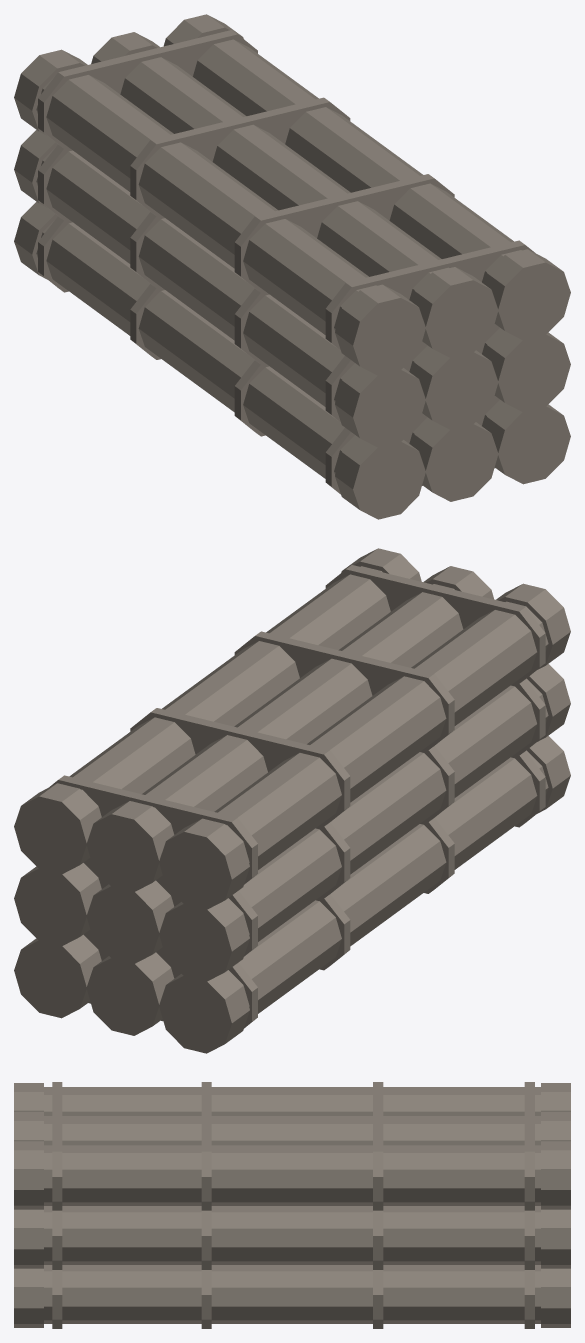
The model's file is SM_Prop_Missle_Crate_01.glb.
3 views of the same model, one above another, from view 1: azimuth 30°, elevation 25°; view 2: azimuth 150°, elevation 25°; view 3: azimuth 270°, elevation 25° (orthographic). The views are drawn at different scales.
Parts seen in each view (by area): view 1: SM_Prop_Missle_Crate_01; view 2: SM_Prop_Missle_Crate_01; view 3: SM_Prop_Missle_Crate_01.
Part boxes in pixels (x1,y1,x2,y2): SM_Prop_Missle_Crate_01: (14,14,570,519); SM_Prop_Missle_Crate_01: (14,548,570,1053); SM_Prop_Missle_Crate_01: (14,1082,570,1328).
Bounding box in the file's own units: 0.7319 × 0.6943 × 1.97.
1 material, 1 textured.
